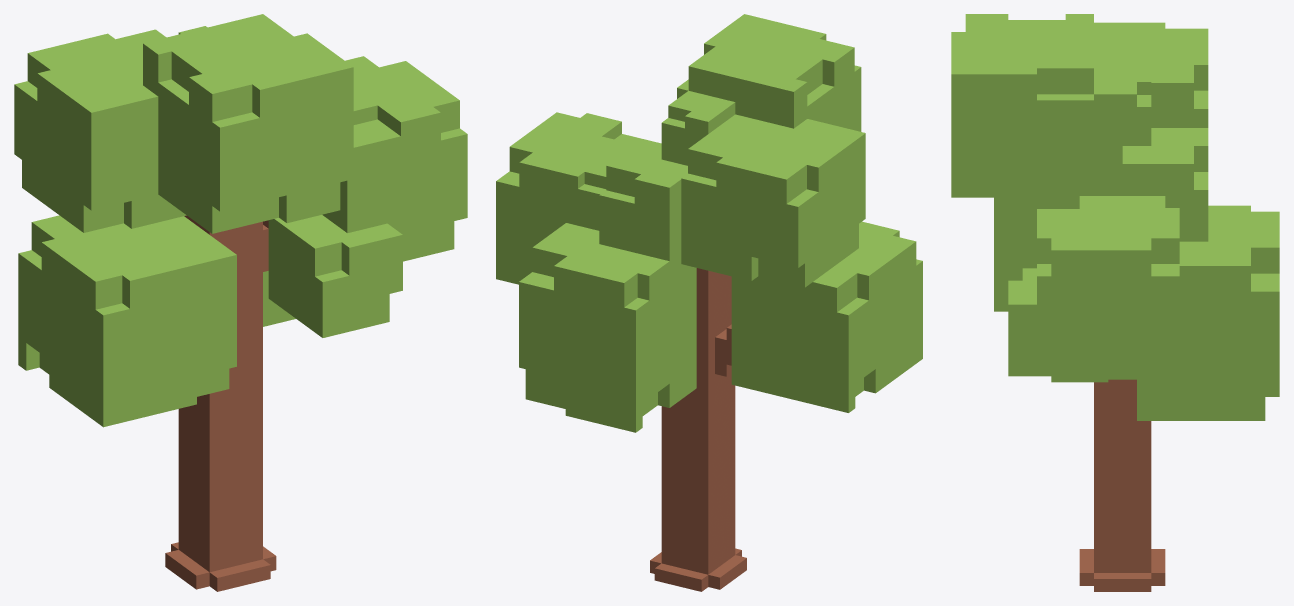
File: tree_round_1.obj
3 renders of one model, left to right at view 1: azimuth 30°, elevation 25°; view 2: azimuth 150°, elevation 25°; view 3: azimuth 270°, elevation 25°, orthographic. The views are drawn at different scales.
Size of the model in its own units: 2.9 by 4 by 2.3.
1 material, 1 textured.
